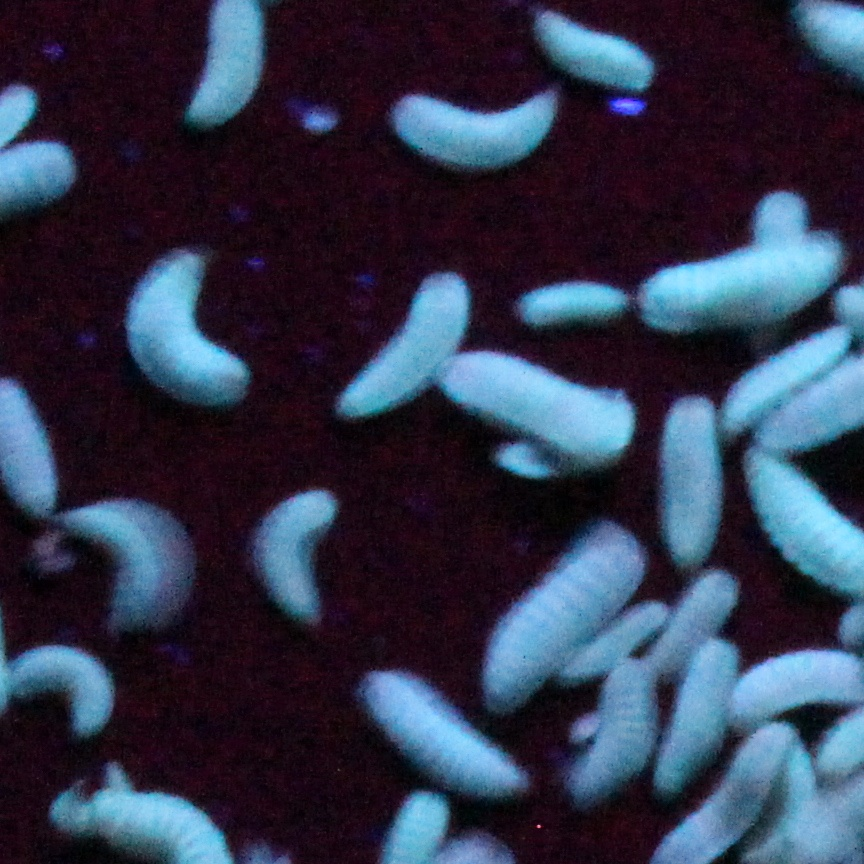larve: (458, 521, 646, 710), (423, 339, 646, 472), (110, 240, 262, 424), (321, 256, 469, 427), (363, 664, 526, 801), (625, 238, 851, 333), (61, 492, 200, 638), (378, 76, 572, 178), (238, 481, 338, 630), (561, 667, 667, 794), (3, 644, 126, 744), (658, 393, 723, 564), (512, 276, 643, 330)
